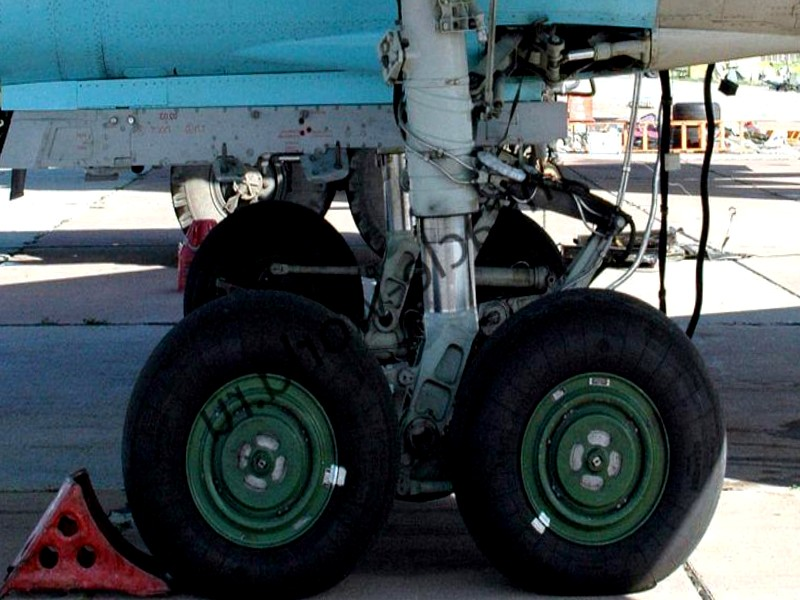chock: (0, 464, 175, 600)
wheel: (445, 282, 732, 600), (117, 283, 399, 600), (182, 199, 366, 322), (468, 205, 574, 304)
